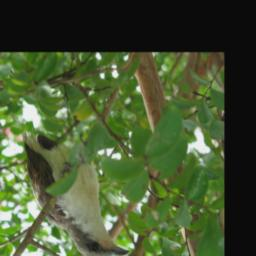Cuckoo: (21, 128, 128, 256)
